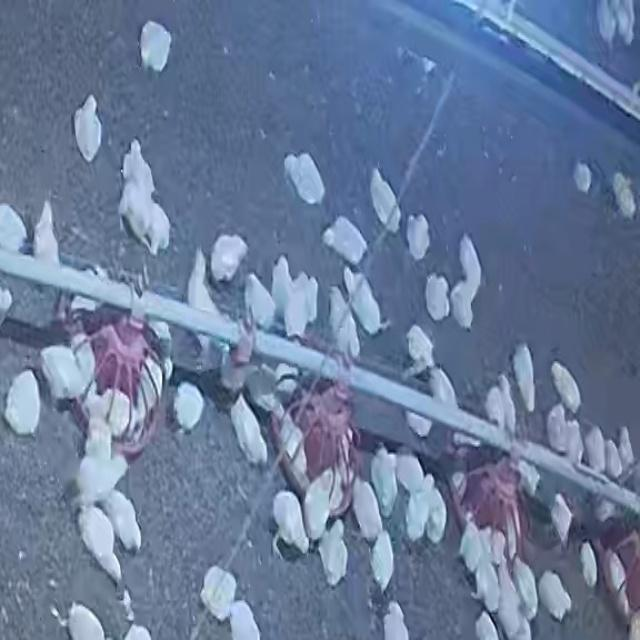chicken: (264, 487, 314, 563), (77, 503, 122, 584), (38, 344, 91, 405), (228, 393, 270, 467), (4, 368, 44, 437), (348, 270, 388, 337), (320, 214, 371, 266), (71, 92, 106, 164), (104, 489, 142, 554), (510, 340, 543, 414), (283, 151, 327, 205), (302, 473, 336, 542), (200, 564, 238, 622), (210, 233, 250, 286), (351, 476, 383, 542), (369, 168, 401, 233), (318, 522, 348, 586), (370, 446, 398, 513), (134, 355, 164, 417), (537, 568, 572, 621), (139, 20, 173, 74), (550, 360, 582, 416), (173, 381, 206, 434), (369, 530, 396, 594), (404, 488, 434, 543), (404, 324, 436, 374), (424, 483, 447, 541), (425, 273, 451, 322), (406, 214, 431, 261), (546, 404, 569, 454), (579, 541, 598, 588), (573, 162, 592, 194)
